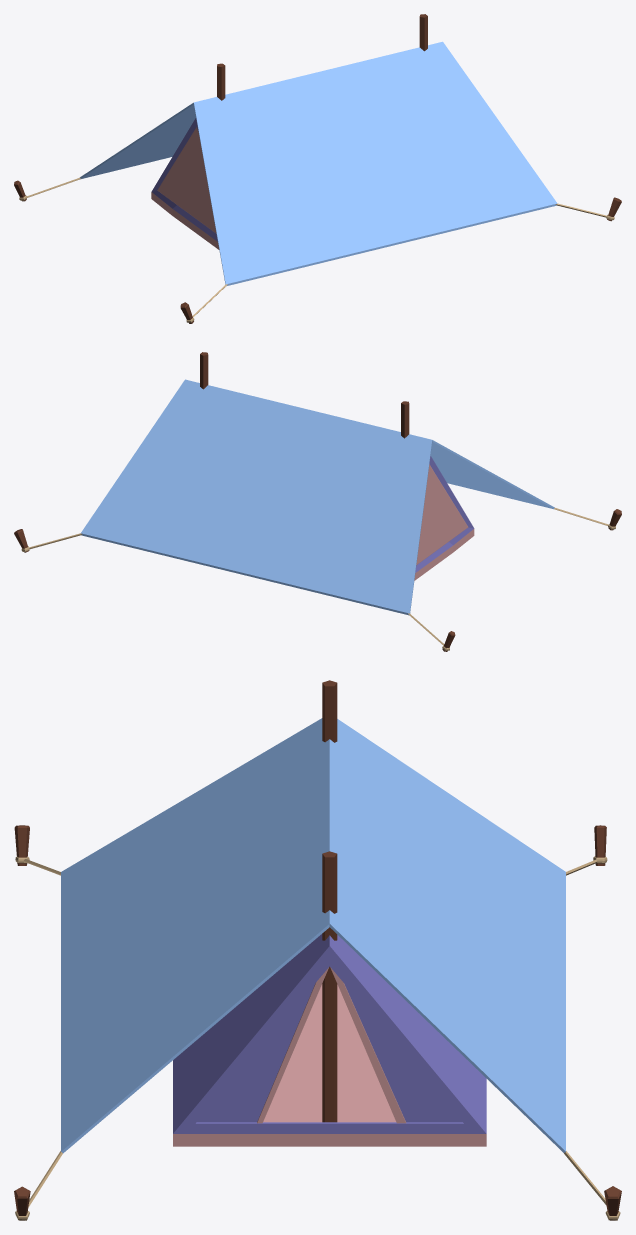
Rendered from Tent_01.glb.
3 views of the same model, one above another, from view 1: azimuth 30°, elevation 25°; view 2: azimuth 150°, elevation 25°; view 3: azimuth 270°, elevation 25° (orthographic). The views are drawn at different scales.
Visible parts, largest first — view 1: Tent_01; view 2: Tent_01; view 3: Tent_01.
Part boxes in pixels (bbox=[...]): Tent_01: bbox=[14, 14, 621, 323]; Tent_01: bbox=[14, 352, 621, 651]; Tent_01: bbox=[14, 680, 621, 1220].
Size of what is drawn, in the model's own units: 6.53 by 2.33 by 4.52.
Materials: 1 (1 with a texture image).
